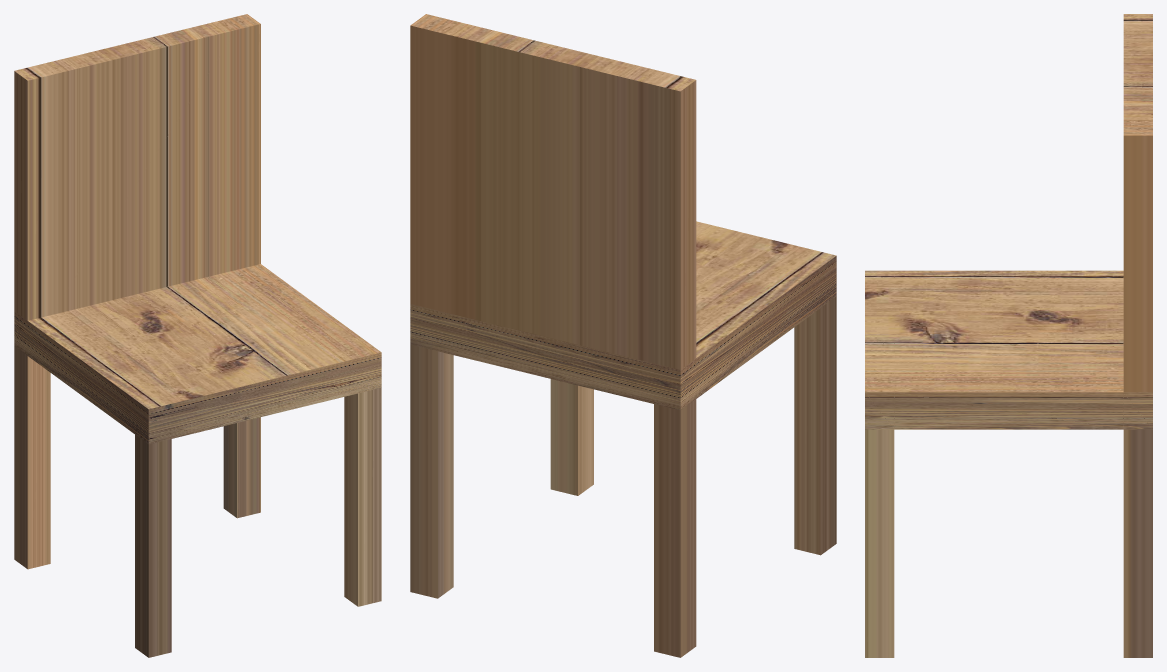
Rendered from Wooden Chair.fbx.
3 views of the same model, side by side, from view 1: azimuth 30°, elevation 25°; view 2: azimuth 150°, elevation 25°; view 3: azimuth 270°, elevation 25° (orthographic). The views are drawn at different scales.
Visible parts, largest first — view 1: Cube; view 2: Cube; view 3: Cube.
Boxes of the visible parts, bbox=[...] form: Cube: bbox=[14, 14, 381, 657]; Cube: bbox=[410, 14, 836, 657]; Cube: bbox=[865, 14, 1152, 657].
Bounding box in the file's own units: 200 × 401 × 200.
Materials: 1 (1 with a texture image).
